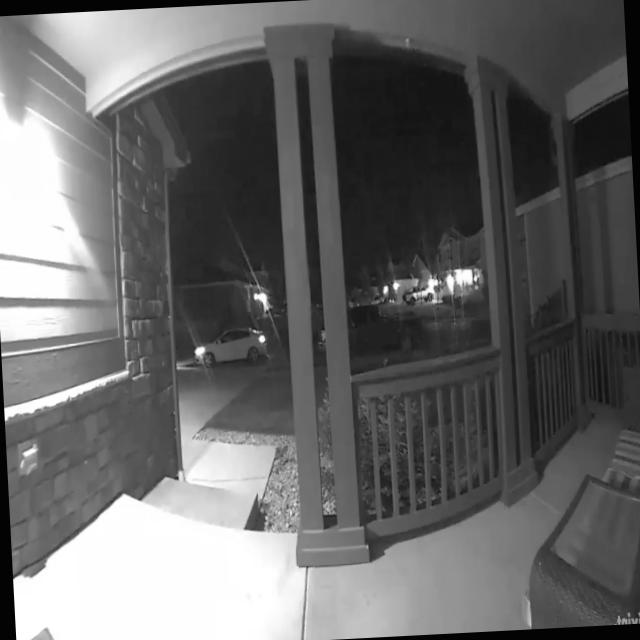car: (314, 300, 424, 377), (186, 310, 275, 378), (402, 275, 443, 310)
